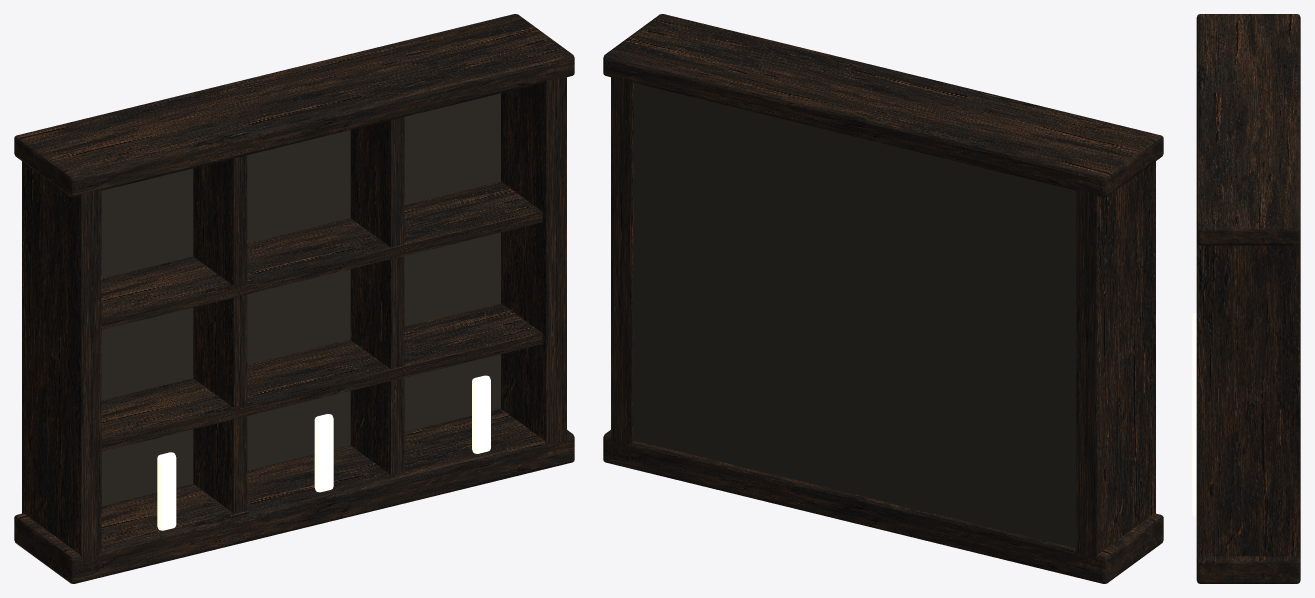
File: room_display.glb
The picture shows the model from 3 angles, left to right: view 1: azimuth 30°, elevation 25°; view 2: azimuth 150°, elevation 25°; view 3: azimuth 270°, elevation 25°; orthographic projection. The views are drawn at different scales.
Visible parts, largest first — view 1: room_display; view 2: room_display; view 3: room_display.
Boxes of the visible parts, x1,y1,x2,y2 form: room_display: (14, 14, 574, 583); room_display: (603, 14, 1163, 583); room_display: (1192, 14, 1300, 583).
Size of the model in its own units: 2.95 by 2.28 by 0.625.
3 materials, 1 textured.
